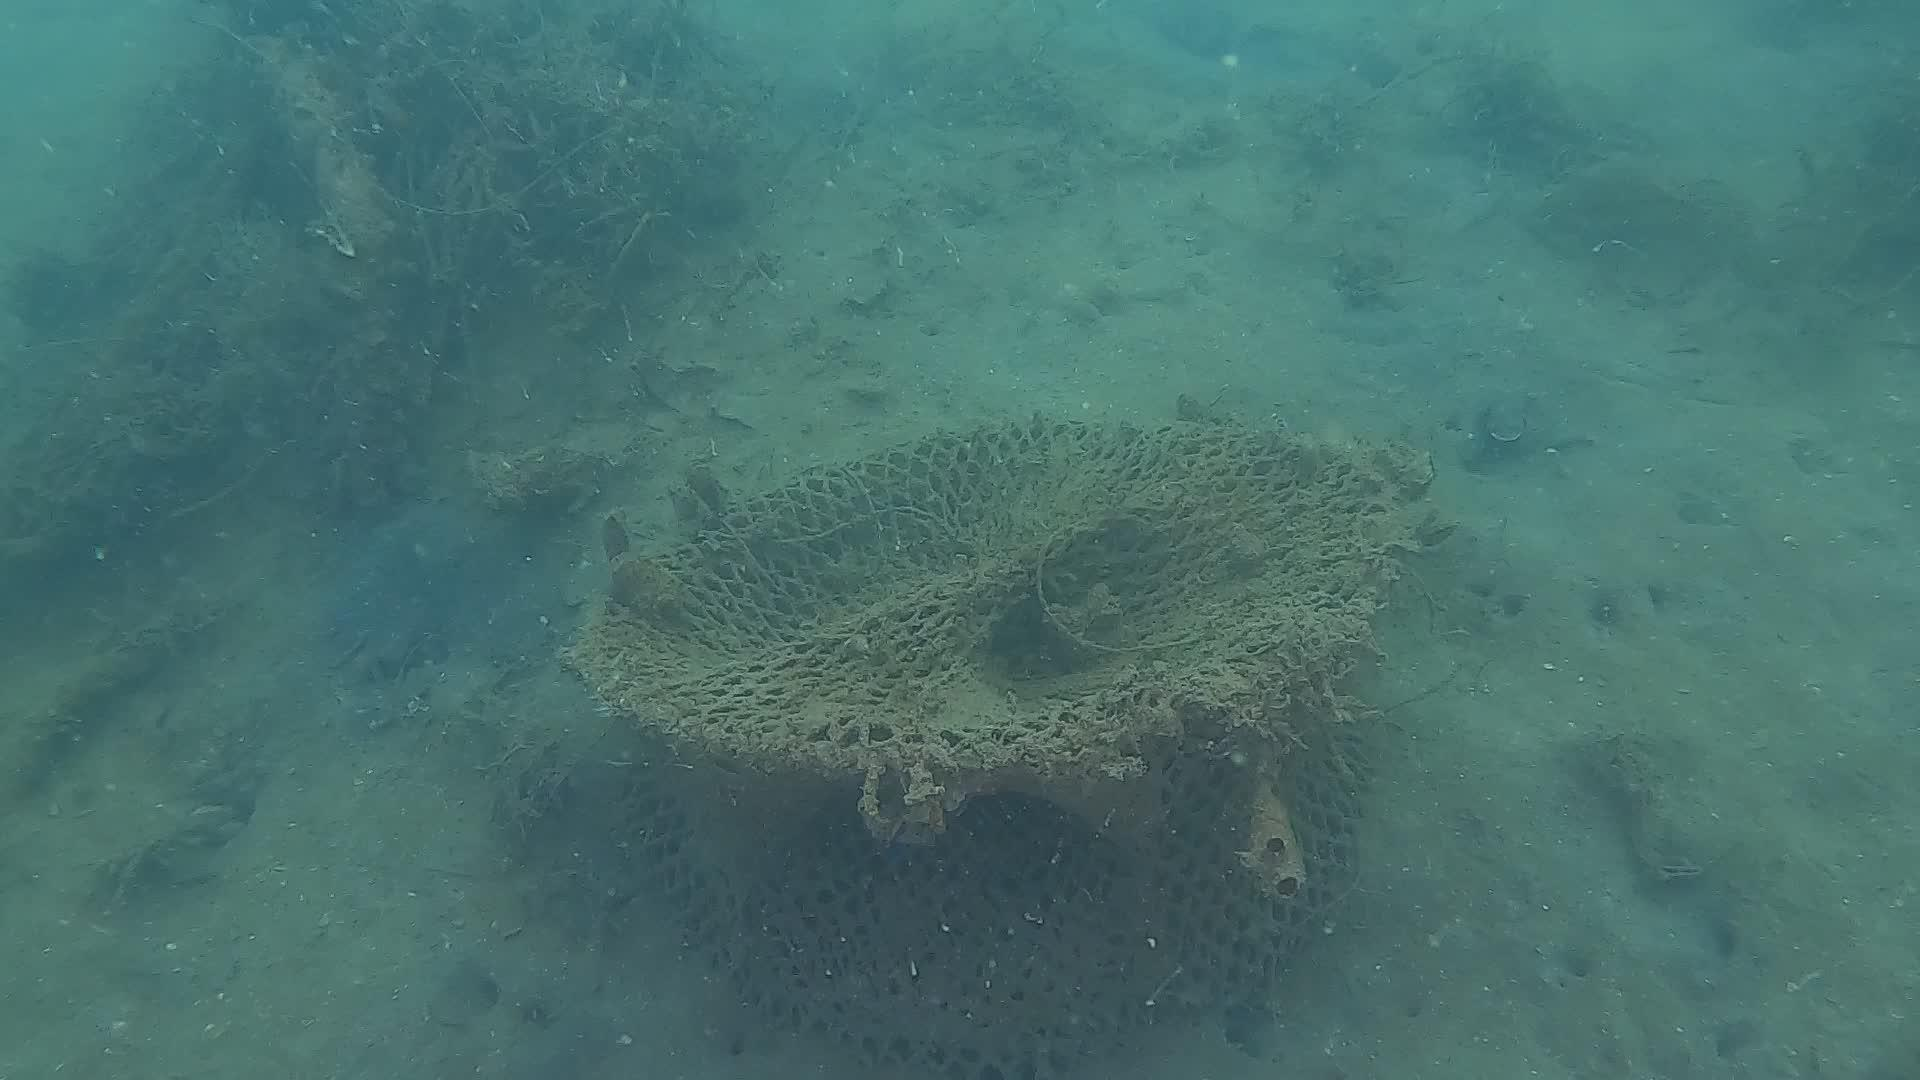circular fish trap: (564, 411, 1410, 1072)
